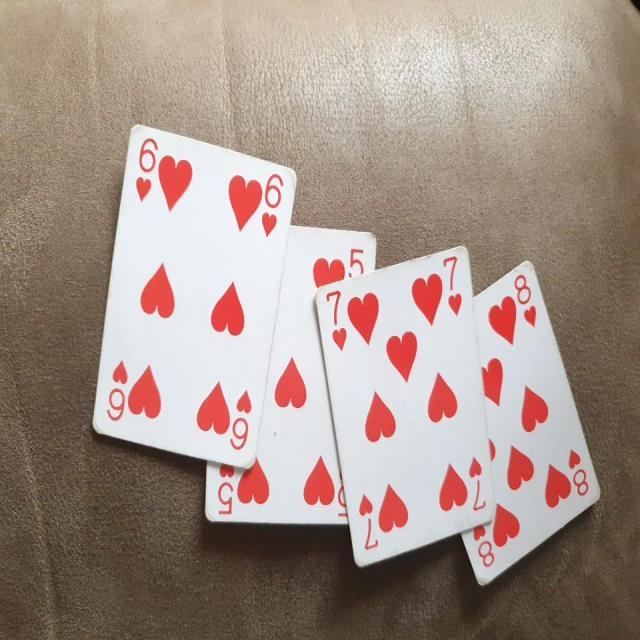5 Hearts: (194, 219, 382, 532)
6 Hearts: (90, 115, 300, 465)
7 Hearts: (318, 243, 499, 570)
8 Hearts: (456, 252, 609, 602)
